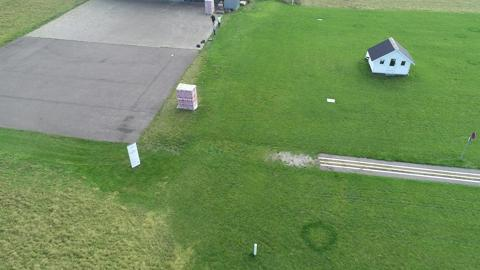RockwoolPallet: (176, 82, 199, 111)
